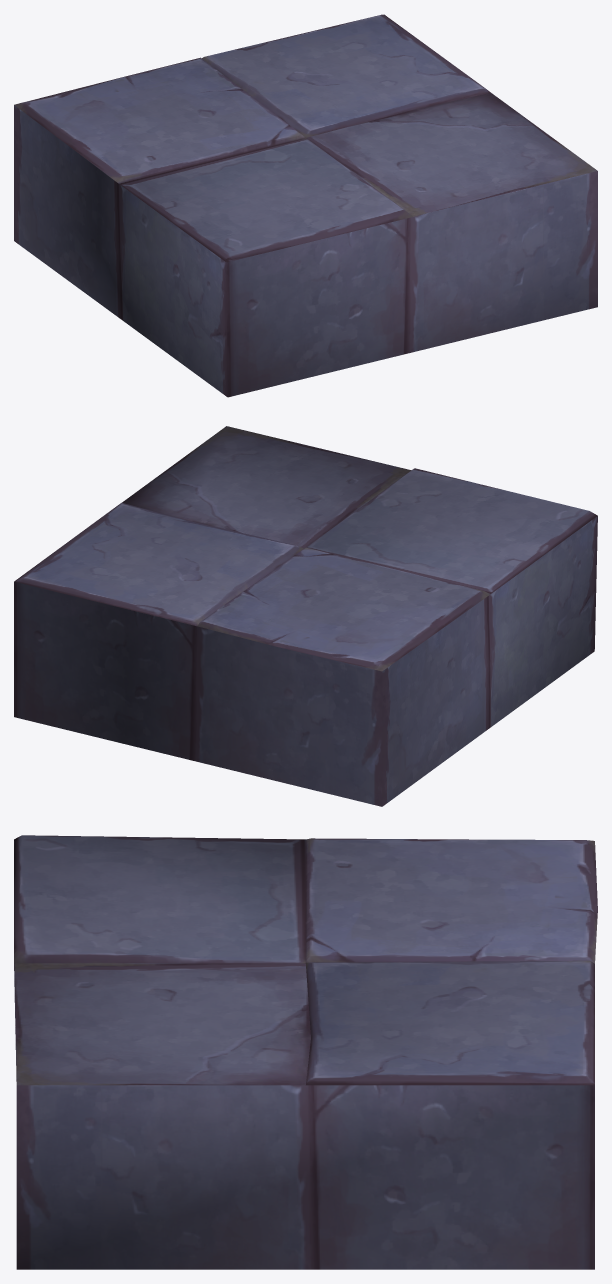
Rendered from SleepingGarden_Floor_04.fbx.
3 views of the same model, one above another, from view 1: azimuth 30°, elevation 25°; view 2: azimuth 150°, elevation 25°; view 3: azimuth 270°, elevation 25° (orthographic). The views are drawn at different scales.
Parts seen in each view (by area): view 1: SleepingGarden_Floor_04; view 2: SleepingGarden_Floor_04; view 3: SleepingGarden_Floor_04.
Part boxes in pixels (<box>): SleepingGarden_Floor_04: <box>14,14,597,397</box>; SleepingGarden_Floor_04: <box>14,426,597,806</box>; SleepingGarden_Floor_04: <box>14,835,597,1269</box>.
Bounding box in the file's own units: 4.74 × 1.72 × 4.75.
Materials: 1 (1 with a texture image).
